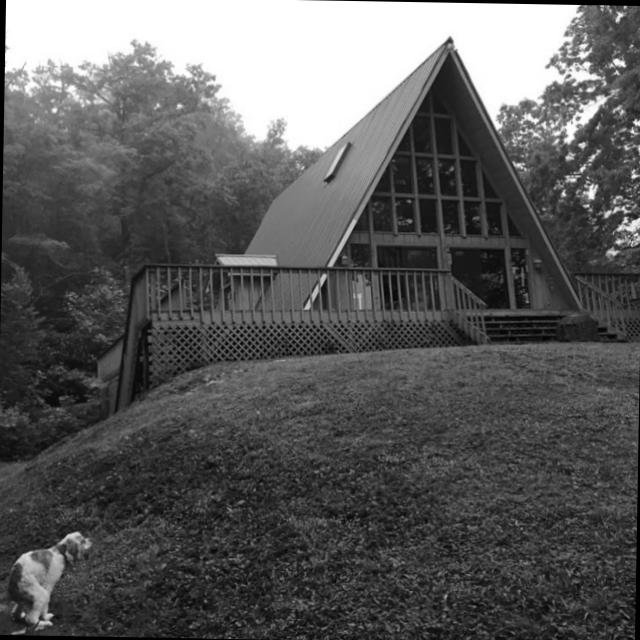squatting: (0, 509, 111, 634)
